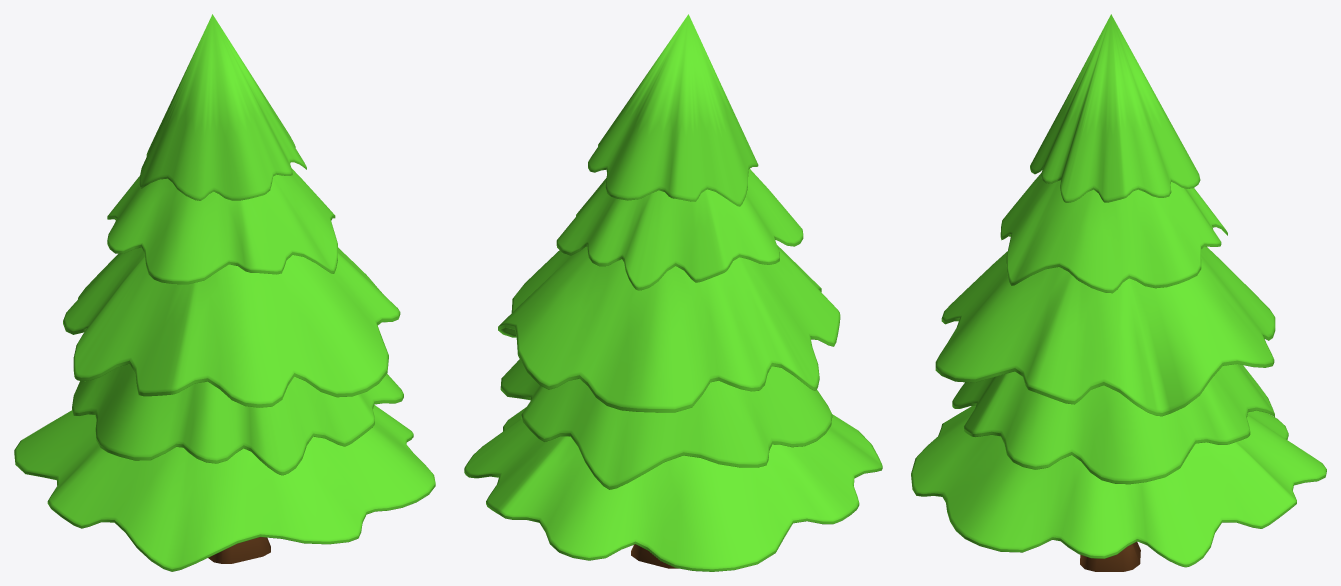
File: pinetree_03.glb
3 renders of one model, left to right at view 1: azimuth 30°, elevation 25°; view 2: azimuth 150°, elevation 25°; view 3: azimuth 270°, elevation 25°, orthographic. The views are drawn at different scales.
Parts seen in each view (by area): view 1: Circle.014, Circle.012, Circle.013, Circle.015, Circle.016, Circle.017; view 2: Circle.014, Circle.012, Circle.013, Circle.016, Circle.015; view 3: Circle.014, Circle.012, Circle.013, Circle.015, Circle.016, Circle.017.
Boxes of the visible parts, bbox=[...] form: Circle.014: bbox=[63, 247, 400, 407]; Circle.012: bbox=[14, 405, 435, 571]; Circle.013: bbox=[72, 364, 403, 475]; Circle.015: bbox=[107, 168, 337, 284]; Circle.016: bbox=[139, 14, 306, 200]; Circle.017: bbox=[208, 537, 270, 563]; Circle.014: bbox=[498, 245, 840, 412]; Circle.012: bbox=[464, 407, 882, 571]; Circle.013: bbox=[500, 359, 832, 489]; Circle.016: bbox=[588, 14, 758, 206]; Circle.015: bbox=[556, 169, 803, 290]; Circle.014: bbox=[935, 246, 1275, 416]; Circle.012: bbox=[911, 406, 1326, 567]; Circle.013: bbox=[952, 364, 1274, 484]; Circle.015: bbox=[1000, 173, 1227, 293]; Circle.016: bbox=[1030, 14, 1200, 202]; Circle.017: bbox=[1080, 542, 1140, 571].
Size of the model in its own units: 1.53 by 2.28 by 1.61.
